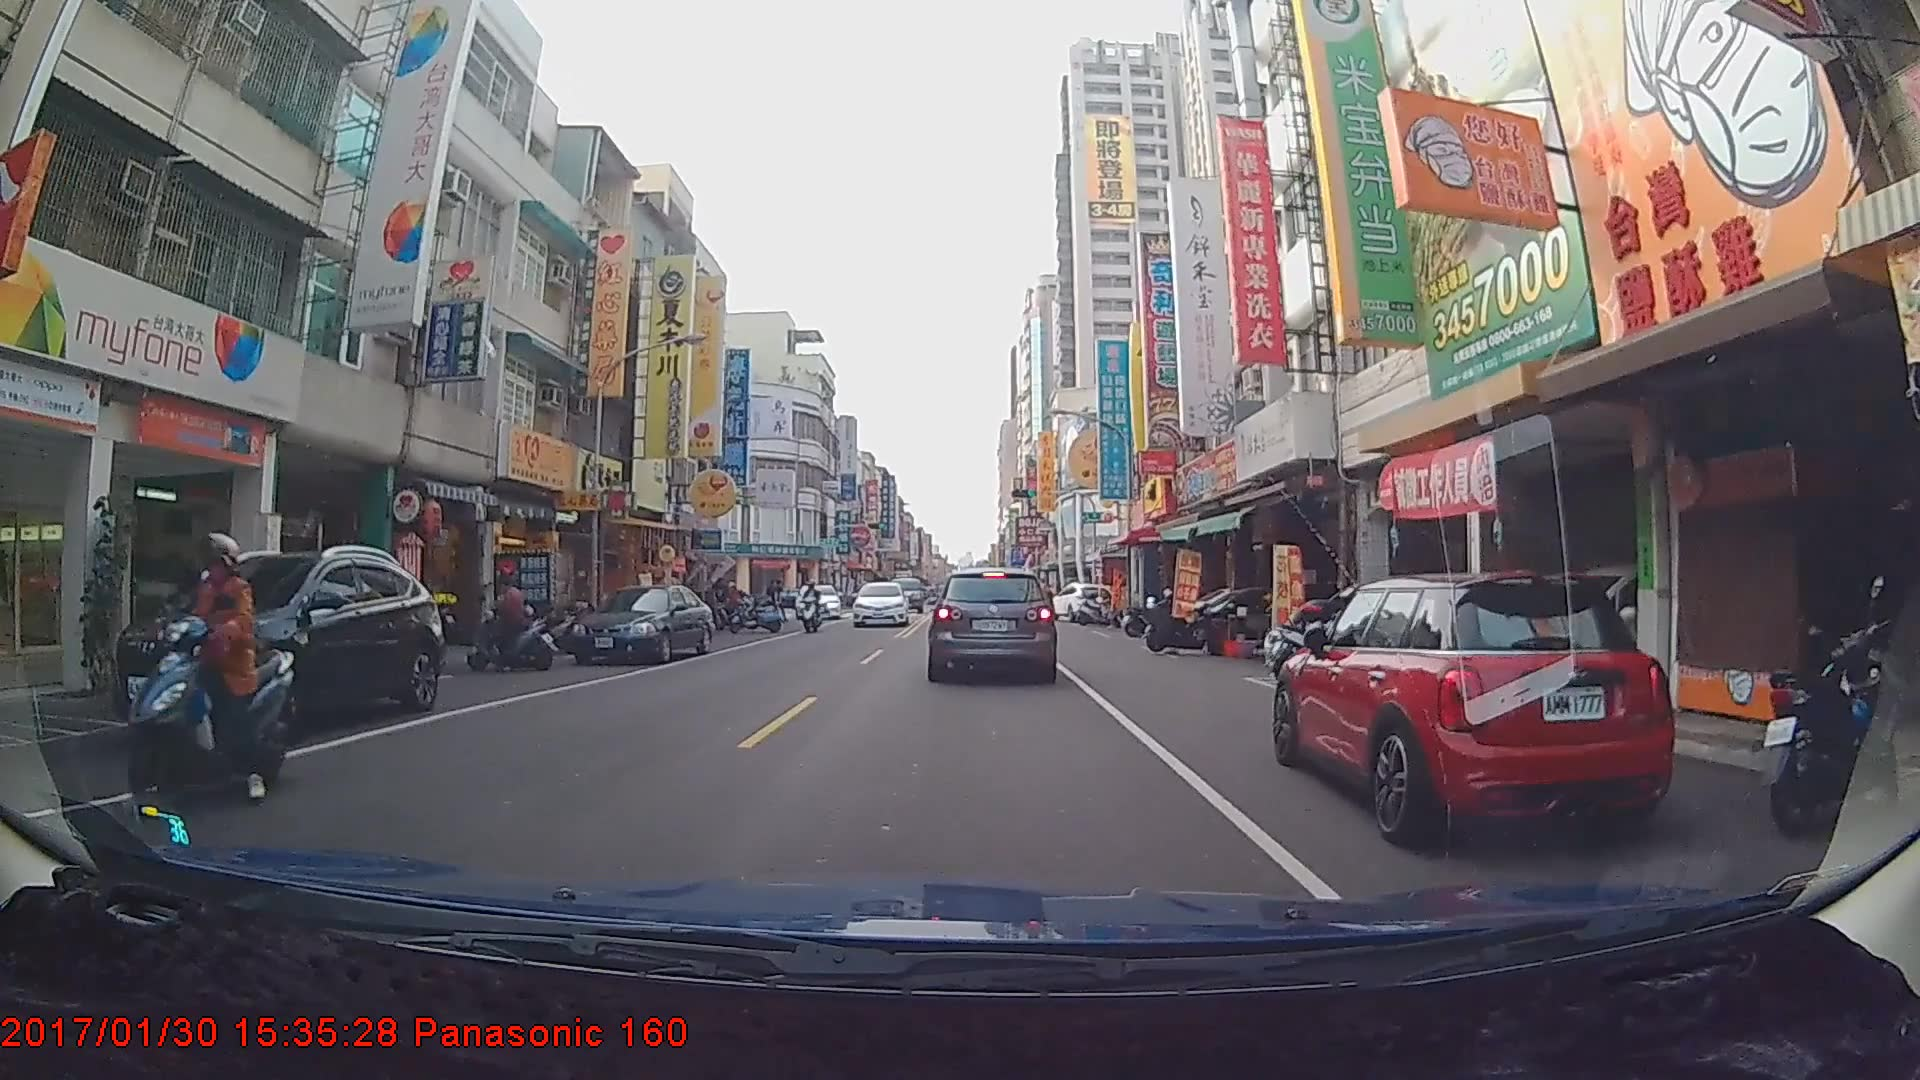rider: (141, 530, 296, 814), (462, 569, 569, 678), (796, 583, 825, 637)
vehicle: (1270, 570, 1673, 846), (103, 547, 443, 751), (928, 564, 1055, 680), (565, 588, 715, 666), (1048, 581, 1113, 624), (849, 581, 908, 626), (794, 582, 841, 619)
